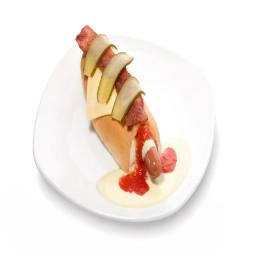hotdog: (68, 17, 180, 181)
